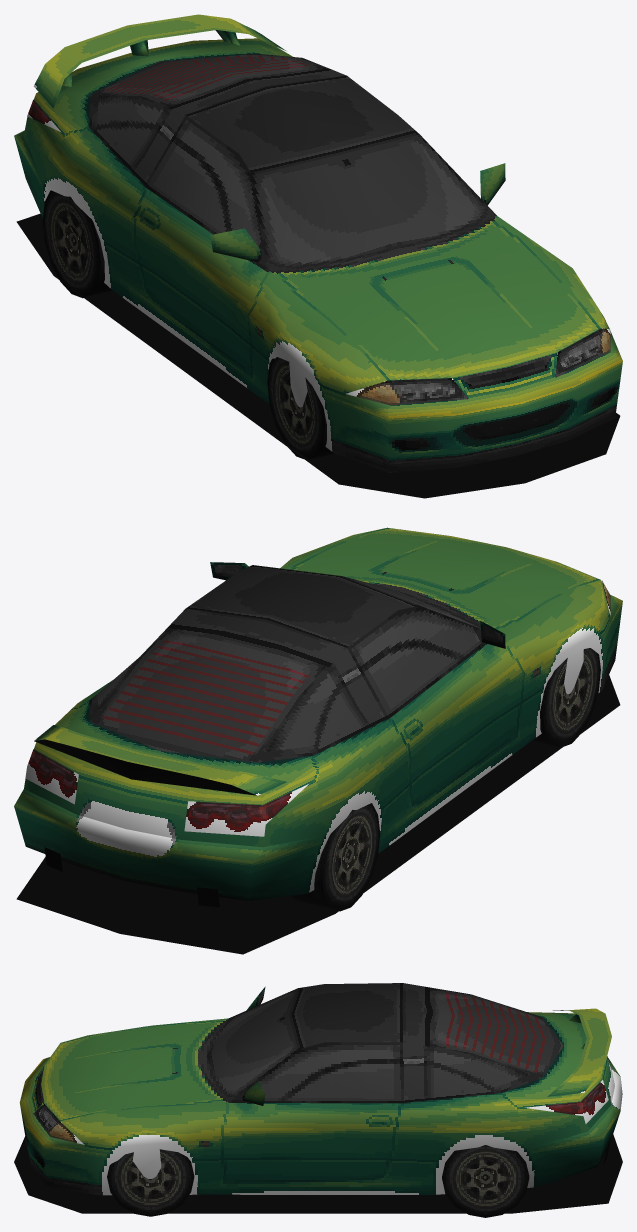
The model's file is ps1_gt1-style_model_-_1996_horai_bx300.glb.
3 renders of one model, top to bottom at view 1: azimuth 30°, elevation 25°; view 2: azimuth 150°, elevation 25°; view 3: azimuth 270°, elevation 25°, orthographic. The views are drawn at different scales.
Parts seen in each view (by area): view 1: Object_2; view 2: Object_2; view 3: Object_2.
Part boxes in pixels (x1,y1,x2,y2): Object_2: (14,14,622,498); Object_2: (14,527,622,954); Object_2: (14,983,622,1217).
Size of the model in its own units: 1.91 by 1.32 by 4.54.
Materials: 1 (1 with a texture image).
